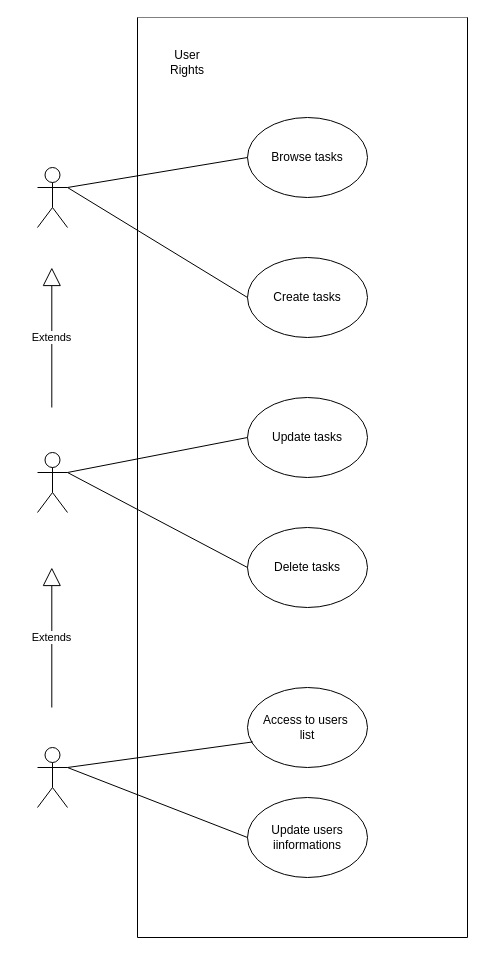
The diagram is 486 pixels wide and 955 high, and some of its shapes have lost their labels. The shapes that lost their labels are listed below. From the top down, each one's centre as x and y in pixels, then its label:
At (x=52, y=197): "Anonymous".
At (x=52, y=482): "User".
At (x=52, y=777): "Administrator".
